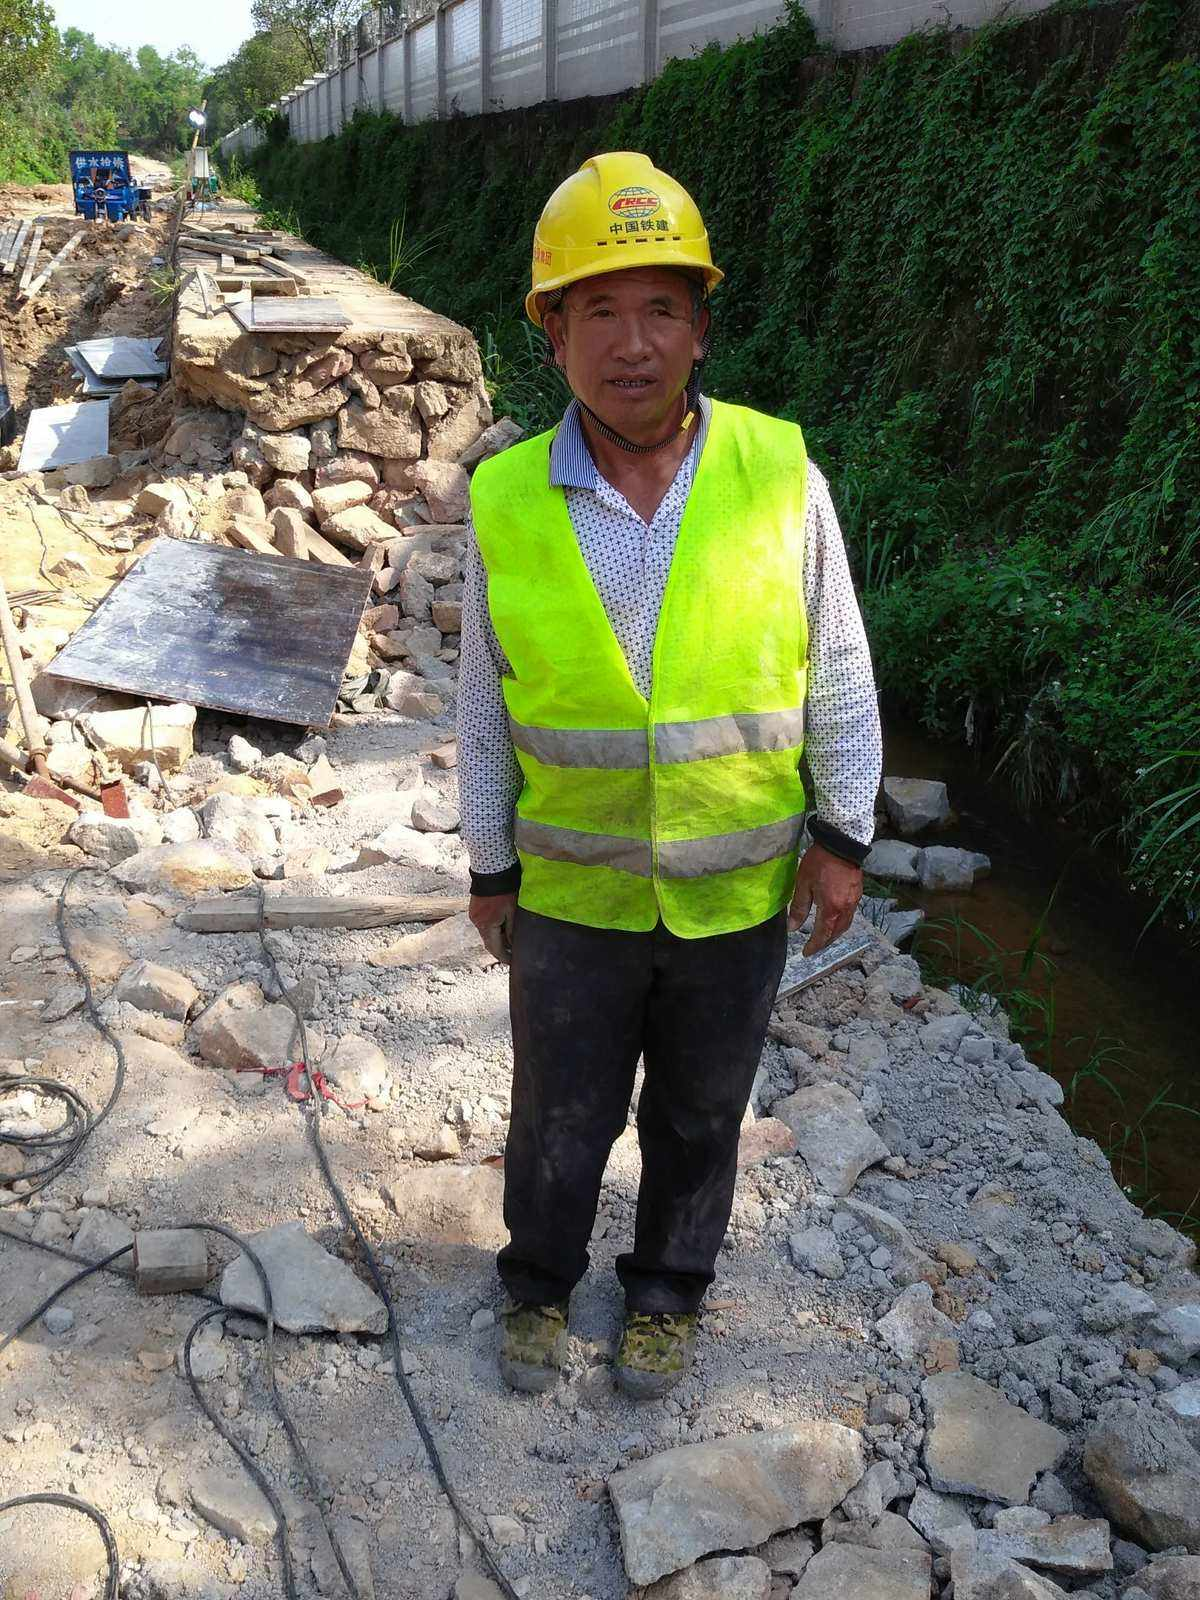person: (452, 144, 885, 1403)
reflective_vest: (468, 391, 814, 946)
safety_helmet: (522, 142, 728, 433)
